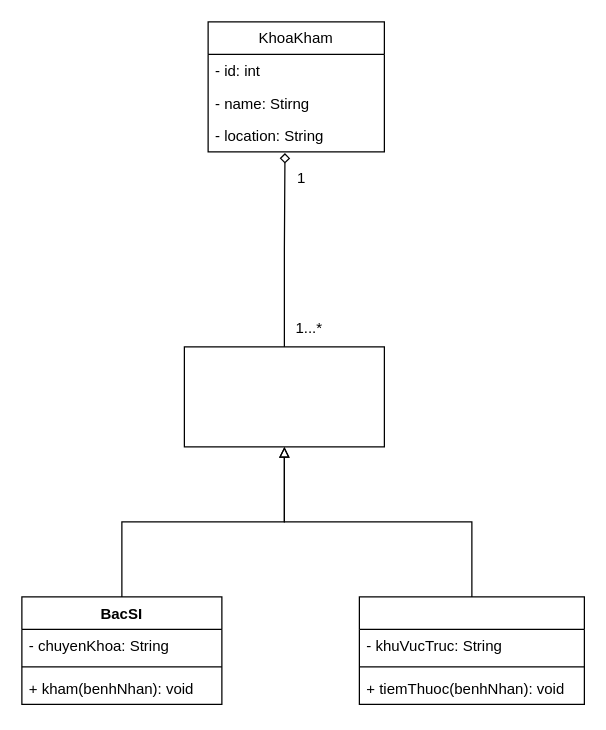
This 606x730 diagram has some shape labels left out. Here are the shapes that lost their labels. From the top down, the box of each, then its label:
(183, 346, 384, 447): NhanVienYTe - maNhanVien: String - hoTen: String - soDienThoai: String
(358, 596, 584, 704): YTa
